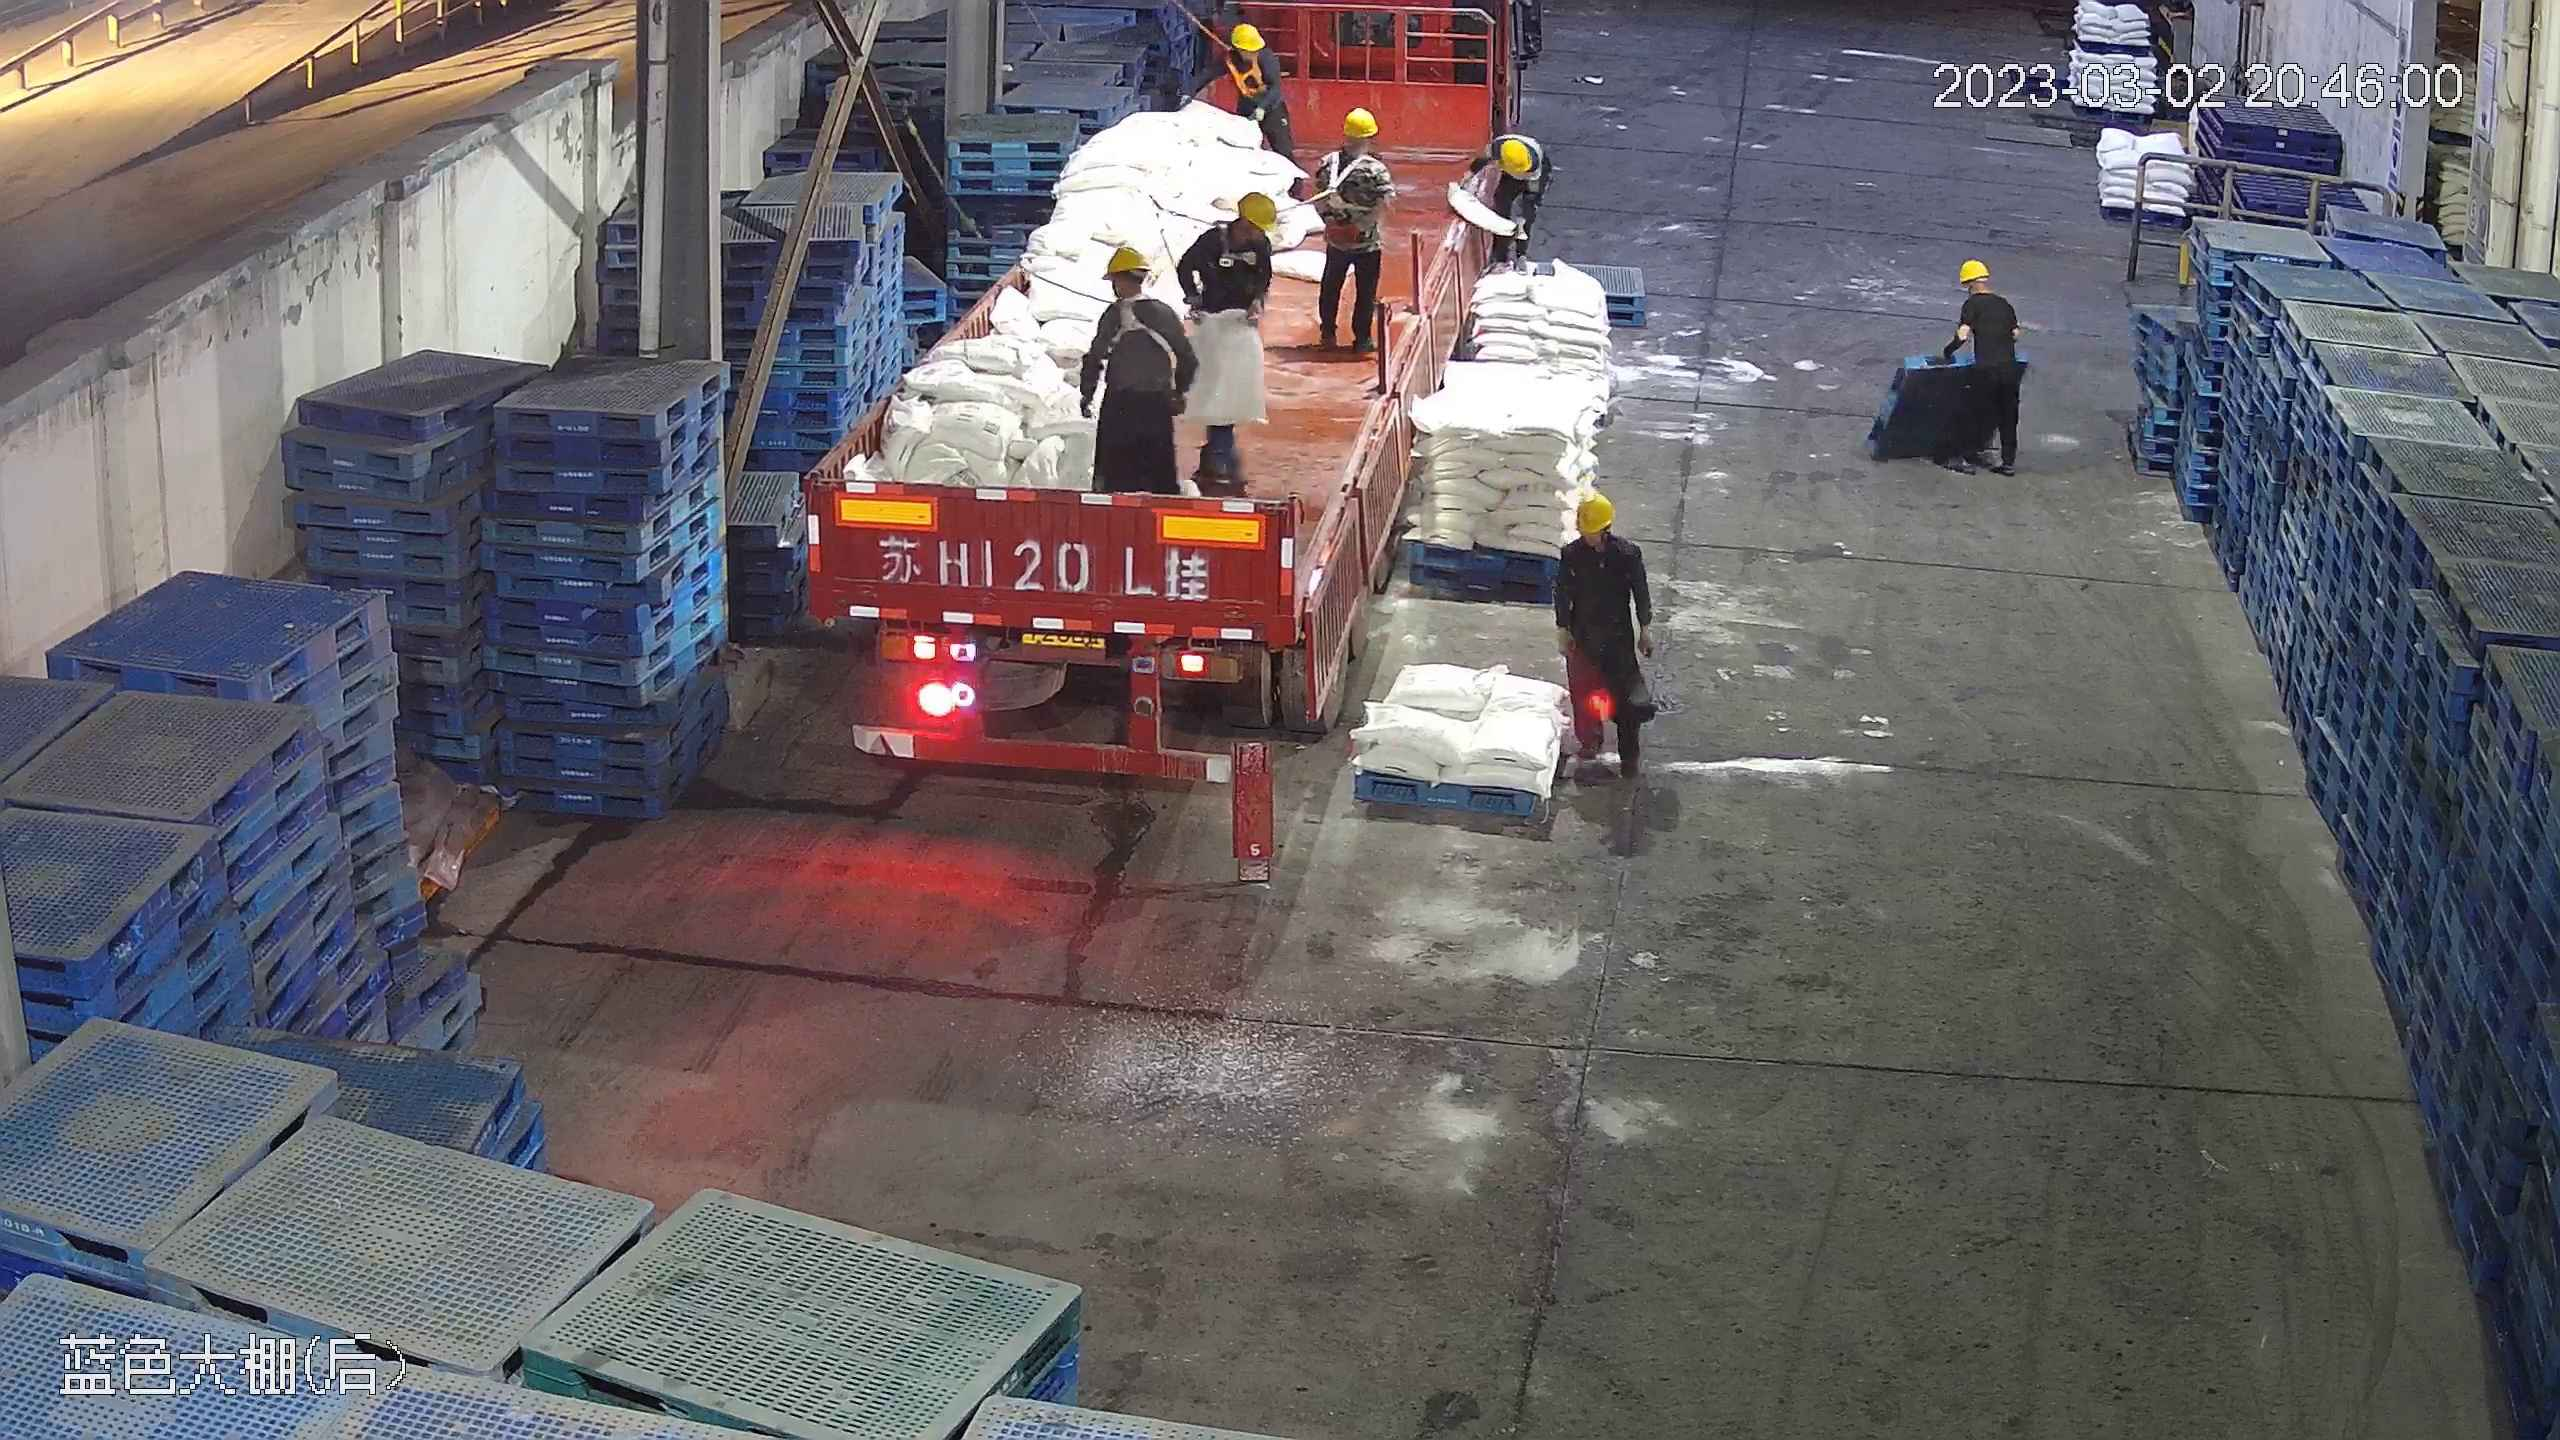belt: (1094, 296, 1185, 386), (1207, 218, 1271, 286), (1312, 151, 1373, 214), (1220, 51, 1268, 103)
head: (1091, 242, 1187, 340), (1557, 491, 1645, 589), (1189, 189, 1283, 269), (1316, 106, 1387, 180), (1954, 258, 2017, 324), (1473, 133, 1535, 201), (1211, 21, 1274, 77)
helmet: (1235, 189, 1282, 235), (1100, 241, 1154, 278), (1571, 490, 1616, 529), (1495, 134, 1531, 171), (1226, 23, 1267, 55), (1339, 106, 1379, 136), (1957, 257, 1990, 284)
people: (1555, 488, 1661, 781), (1078, 240, 1197, 499), (1167, 185, 1282, 435), (1305, 106, 1391, 354), (1950, 255, 2028, 473), (1207, 22, 1299, 176), (1457, 132, 1553, 268)
truck: (802, 1, 1500, 767)
